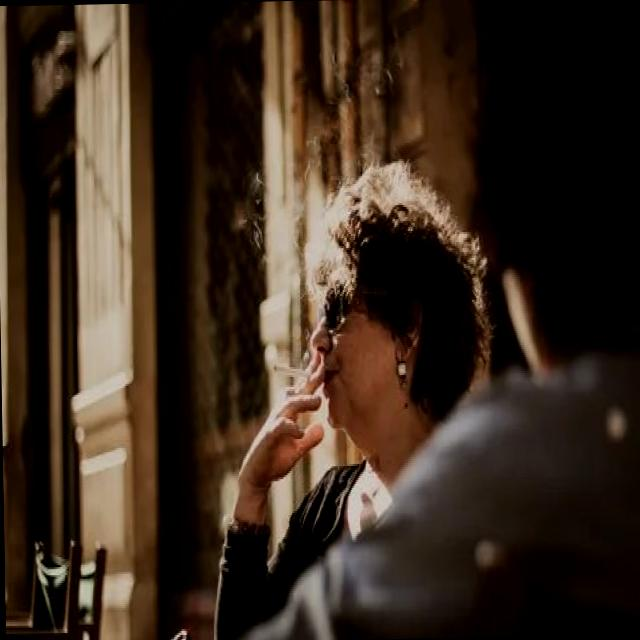cigarette: (264, 356, 318, 391)
